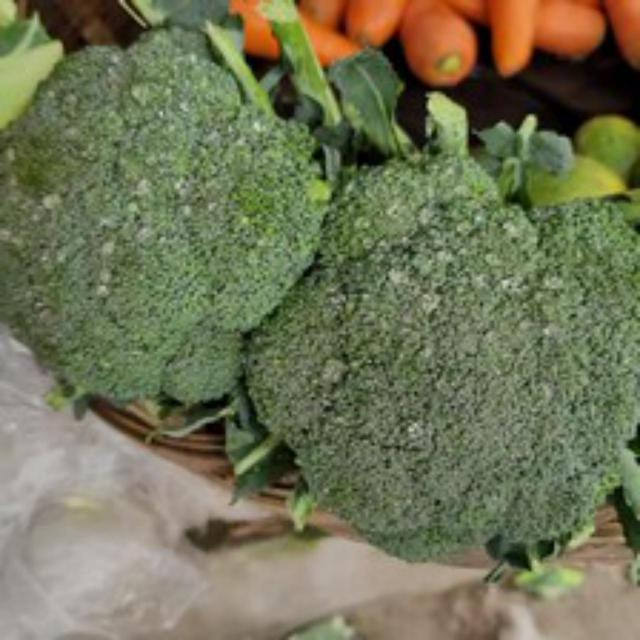broccoli: (233, 144, 640, 565)
